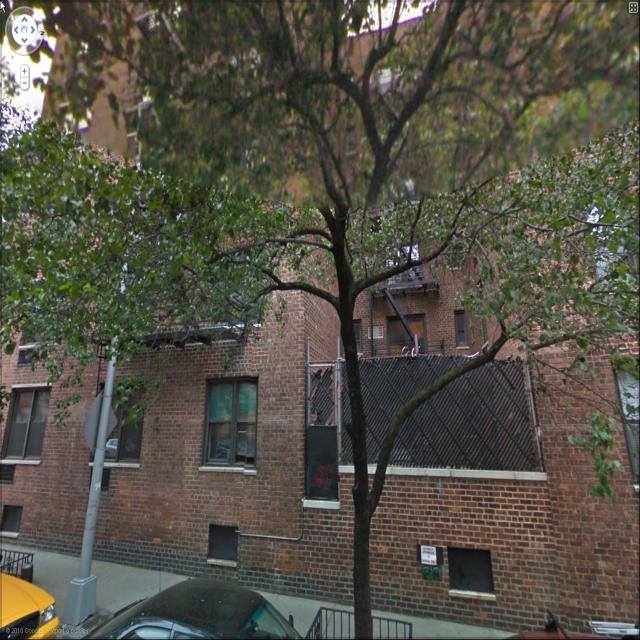b_2: (39, 1, 302, 580), (326, 30, 546, 619), (521, 0, 640, 633), (0, 131, 87, 534)
